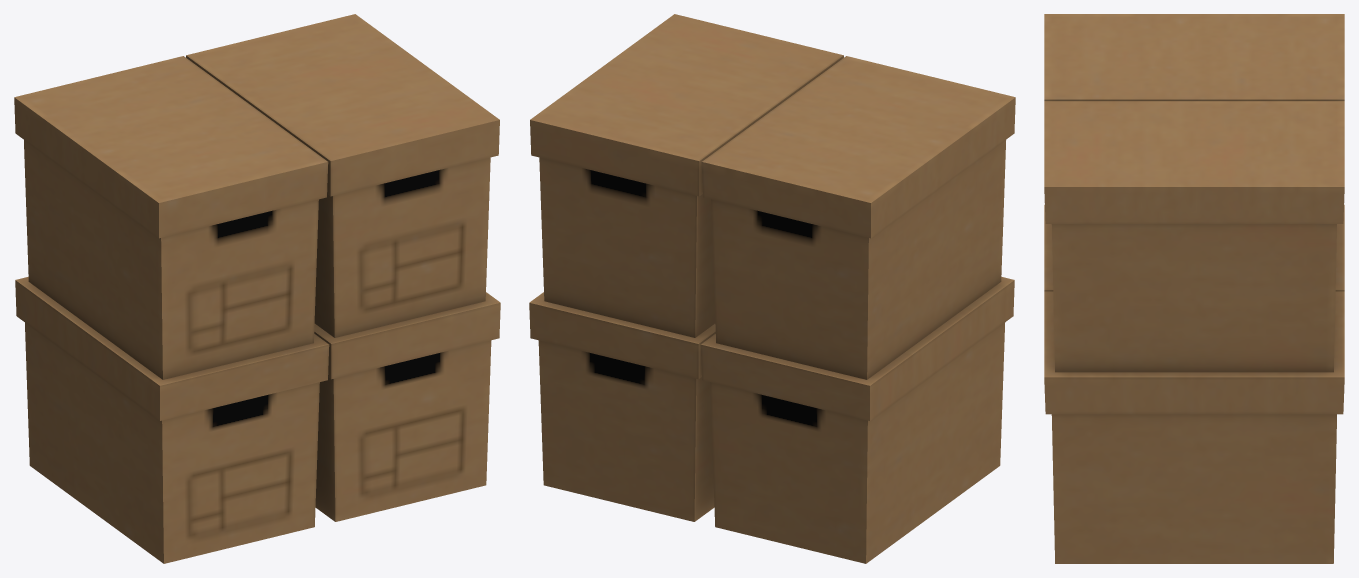
The model's file is sb_obj_ModernCity087_cardboard_box.fbx.
3 views of the same model, side by side, from view 1: azimuth 30°, elevation 25°; view 2: azimuth 150°, elevation 25°; view 3: azimuth 270°, elevation 25° (orthographic). The views are drawn at different scales.
Visible parts, largest first — view 1: sb_obj_ModernCity087_cardboard_box; view 2: sb_obj_ModernCity087_cardboard_box; view 3: sb_obj_ModernCity087_cardboard_box.
Boxes of the visible parts, x1,y1,x2,y2 form: sb_obj_ModernCity087_cardboard_box: (14,14,500,563); sb_obj_ModernCity087_cardboard_box: (529,14,1015,563); sb_obj_ModernCity087_cardboard_box: (1044,14,1344,563).
Bounding box in the file's own units: 0.622 × 0.6384 × 0.4559.
Materials: 1 (1 with a texture image).
